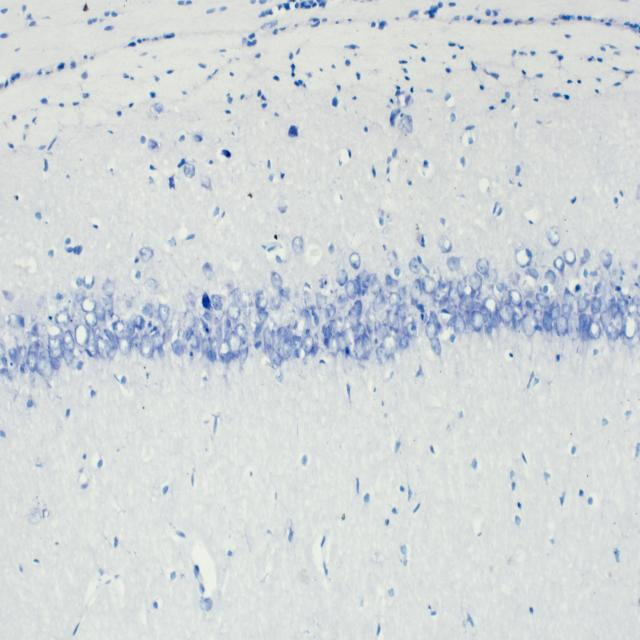neuron: (47, 338, 63, 369), (26, 341, 40, 372), (227, 330, 241, 360), (37, 342, 49, 376), (1, 330, 18, 353), (74, 323, 90, 347), (382, 334, 398, 358), (348, 300, 362, 327), (86, 328, 98, 359), (522, 314, 538, 337), (140, 334, 154, 360), (515, 248, 533, 268), (568, 310, 580, 339), (471, 309, 486, 332), (410, 278, 422, 306), (96, 337, 111, 359), (499, 303, 514, 325), (624, 314, 637, 338), (267, 346, 281, 368), (599, 248, 613, 270), (7, 312, 24, 330), (432, 282, 448, 301), (422, 274, 437, 294), (321, 319, 338, 336), (117, 335, 132, 354), (0, 366, 14, 386), (239, 336, 249, 364), (389, 292, 401, 315), (218, 340, 231, 361), (548, 225, 561, 246), (228, 288, 242, 307), (62, 329, 74, 351), (271, 334, 282, 358), (112, 319, 125, 339), (448, 287, 461, 307), (47, 325, 64, 340), (483, 297, 498, 314), (100, 295, 114, 313), (94, 301, 106, 322), (106, 338, 118, 359), (238, 291, 252, 309), (438, 235, 452, 253), (468, 272, 482, 290), (484, 268, 498, 286), (508, 289, 522, 307), (600, 309, 614, 327), (613, 311, 623, 336), (183, 309, 196, 328), (255, 290, 268, 309), (270, 271, 283, 290), (386, 308, 399, 327), (454, 314, 465, 336), (55, 310, 71, 325), (81, 296, 96, 312), (158, 302, 170, 322), (170, 311, 180, 335), (370, 275, 382, 295), (425, 320, 437, 340), (555, 314, 567, 334), (227, 303, 241, 320), (459, 295, 473, 312), (62, 348, 75, 366), (152, 333, 165, 351), (301, 334, 314, 352), (357, 270, 370, 288), (372, 294, 385, 312), (376, 346, 389, 364), (478, 284, 491, 302), (563, 248, 576, 266), (588, 321, 601, 339), (345, 280, 357, 299), (84, 310, 98, 326), (352, 323, 366, 339), (172, 339, 185, 356), (335, 269, 348, 286), (409, 257, 422, 274), (476, 257, 489, 274), (536, 292, 549, 309), (563, 287, 576, 304), (282, 338, 292, 360), (406, 322, 417, 342), (235, 323, 247, 341), (277, 326, 289, 344), (397, 303, 409, 321), (523, 296, 535, 314), (610, 270, 622, 288), (8, 347, 18, 368), (591, 296, 602, 315), (18, 344, 26, 370), (102, 280, 115, 296), (438, 296, 451, 312), (447, 256, 460, 272), (616, 298, 629, 314), (133, 314, 145, 331), (211, 294, 223, 311), (270, 294, 282, 311), (349, 252, 361, 269), (606, 324, 618, 341), (604, 293, 616, 310), (264, 327, 274, 347), (367, 312, 377, 332), (543, 311, 553, 331), (386, 274, 397, 292), (577, 297, 590, 312), (544, 269, 556, 285), (337, 333, 347, 352), (316, 292, 326, 311), (456, 278, 466, 297), (330, 336, 339, 356), (333, 316, 343, 334), (432, 337, 441, 357), (511, 313, 521, 331), (626, 302, 638, 317), (580, 248, 590, 266), (208, 336, 219, 352), (325, 304, 336, 320), (429, 311, 440, 327), (126, 322, 136, 339), (554, 255, 564, 272), (214, 317, 222, 338), (74, 288, 85, 303), (582, 314, 591, 332), (294, 346, 306, 359), (464, 285, 476, 298), (447, 314, 458, 328), (258, 309, 268, 324), (510, 271, 520, 286), (533, 309, 543, 324), (550, 305, 560, 320), (279, 286, 291, 298), (489, 312, 498, 328), (525, 268, 538, 279), (104, 328, 114, 342), (399, 334, 408, 349), (201, 339, 209, 355), (292, 334, 301, 348), (353, 279, 361, 294), (578, 313, 588, 324), (631, 294, 640, 306), (275, 370, 283, 383), (561, 303, 570, 314), (497, 281, 504, 293), (300, 309, 309, 318)
